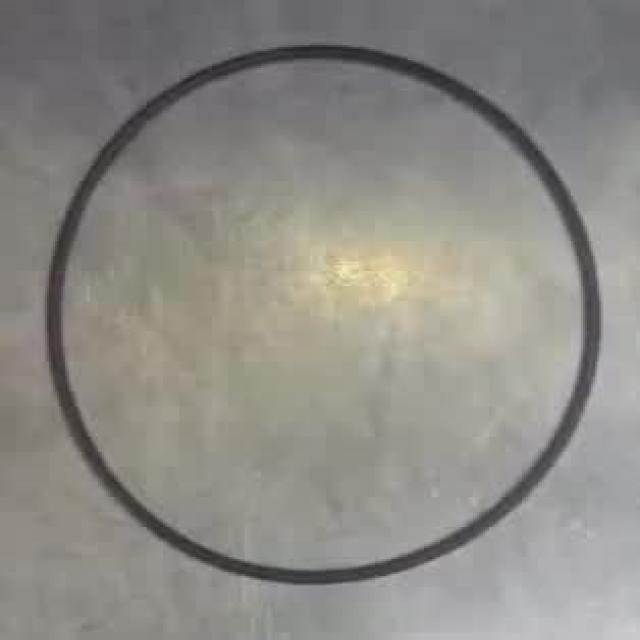Circle: (41, 39, 604, 584)
